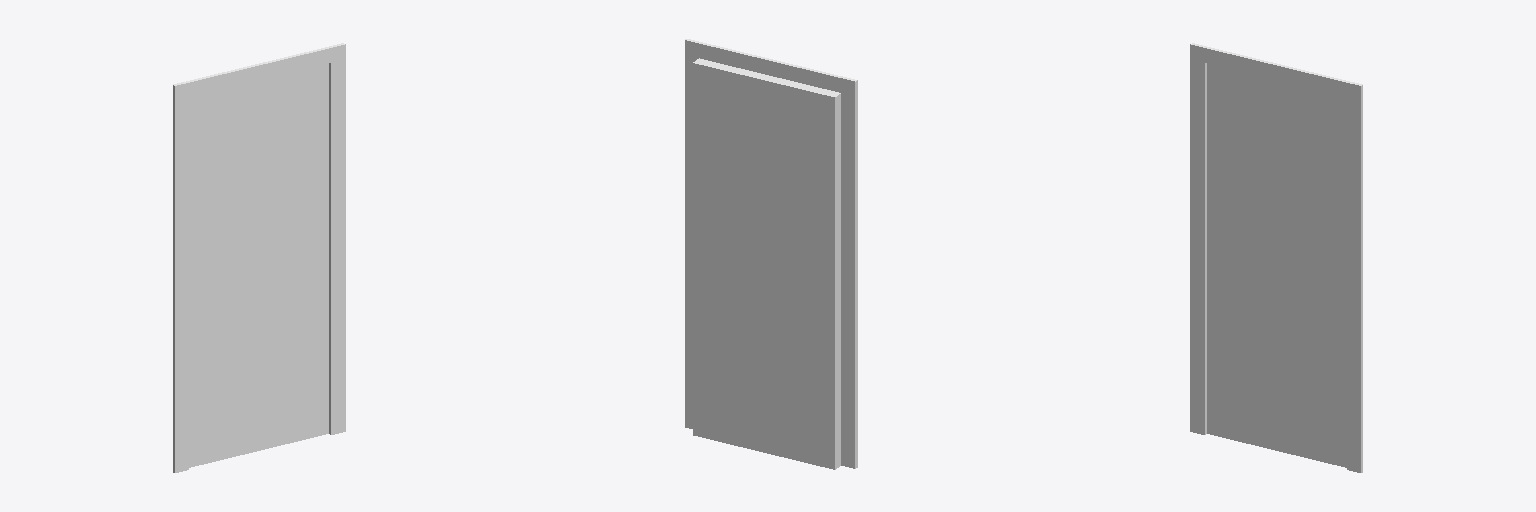
3 views of the same model, side by side, from view 1: azimuth 30°, elevation 25°; view 2: azimuth 150°, elevation 25°; view 3: azimuth 330°, elevation 25° (orthographic).
Parts seen in each view (by area): view 1: door, door_out; view 2: door, door_out; view 3: door, door_out.
Boxes of the visible parts, x1=… form: door: x1=189, y1=64, x2=328, y2=467; door_out: x1=173, y1=43, x2=345, y2=472; door: x1=693, y1=58, x2=840, y2=469; door_out: x1=685, y1=39, x2=857, y2=468; door: x1=1207, y1=64, x2=1346, y2=467; door_out: x1=1190, y1=43, x2=1362, y2=472.
Size of the model in its own units: 96 by 208 by 8.
1 materials, 1 textured.